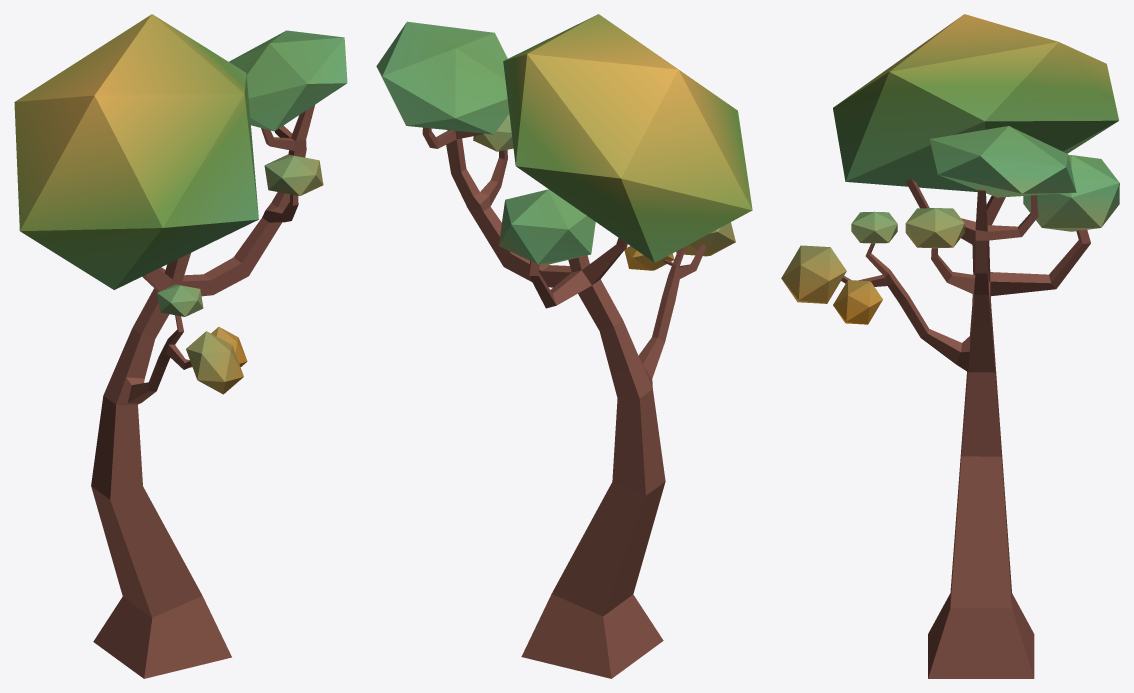
The model's file is Tree1.glb.
3 views of the same model, side by side, from view 1: azimuth 30°, elevation 25°; view 2: azimuth 150°, elevation 25°; view 3: azimuth 270°, elevation 25° (orthographic). The views are drawn at different scales.
Visible parts, largest first — view 1: bonsai; view 2: bonsai; view 3: bonsai.
Boxes of the visible parts, x1,y1,x2,y2 form: bonsai: (14,14,347,678); bonsai: (376,14,752,678); bonsai: (781,14,1119,678).
Size of the model in its own units: 4.09 by 6.9 by 3.37.
Materials: 2 (1 with a texture image).
